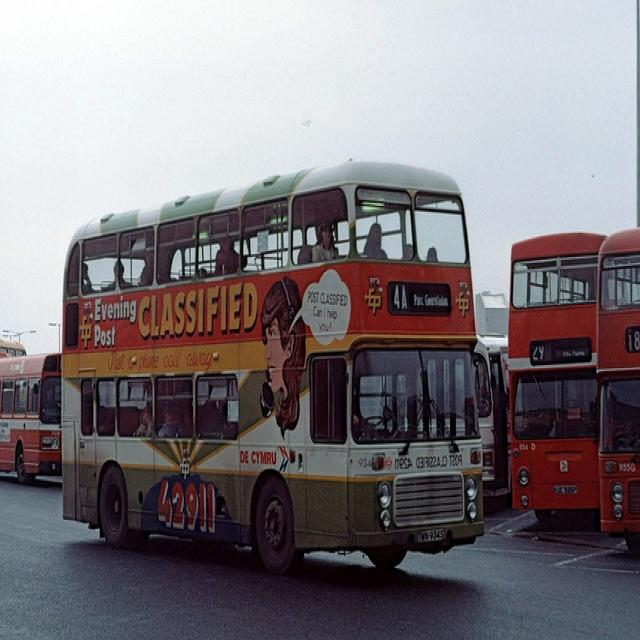Vehicle: (61, 161, 484, 572), (506, 233, 606, 535), (597, 229, 640, 555), (1, 356, 64, 484), (476, 334, 510, 499)
